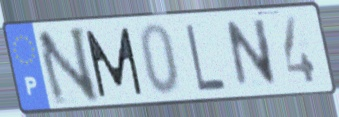0: (138, 21, 185, 99)
4: (284, 14, 319, 88)
L: (182, 21, 229, 93)
M: (82, 25, 146, 100)
N: (33, 24, 101, 108), (223, 16, 280, 92)
